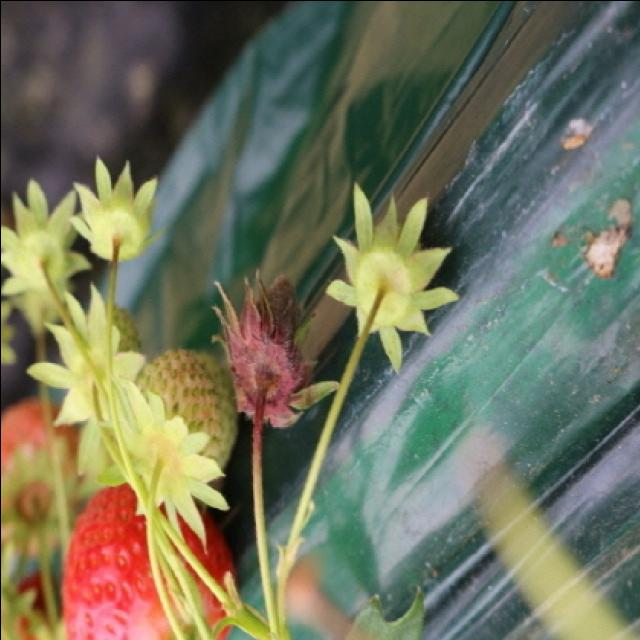Gray Mold: (207, 267, 315, 447)
